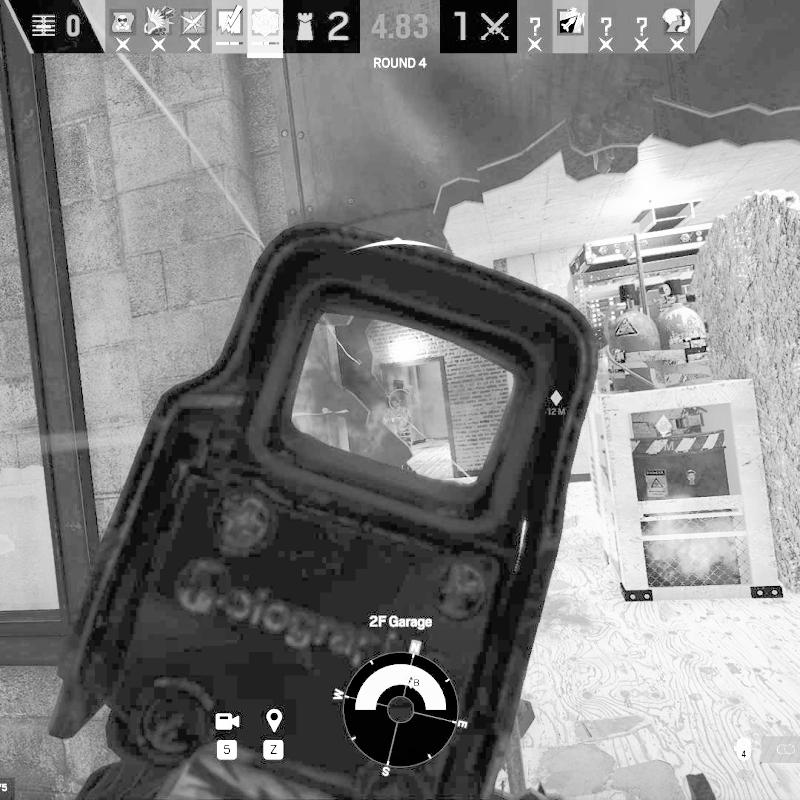Character: (389, 398, 412, 446)
